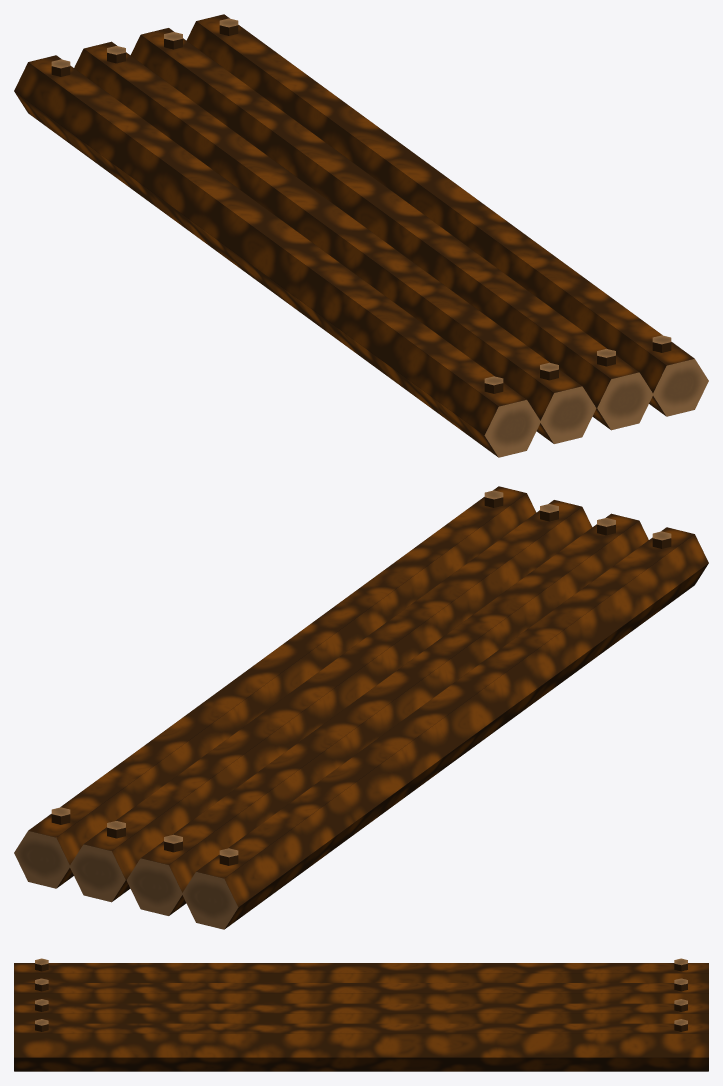
Rendered from Bridge.fbx.
The picture shows the model from 3 angles, top to bottom: view 1: azimuth 30°, elevation 25°; view 2: azimuth 150°, elevation 25°; view 3: azimuth 270°, elevation 25°; orthographic projection. The views are drawn at different scales.
Parts seen in each view (by area): view 1: bridge; view 2: bridge; view 3: bridge.
Boxes of the visible parts, x1,y1,x2,y2 form: bridge: (14, 14, 708, 457); bridge: (14, 486, 708, 929); bridge: (14, 958, 708, 1071).
Bounding box in the file's own units: 86.03 × 21.88 × 312.
1 material, 1 textured.
